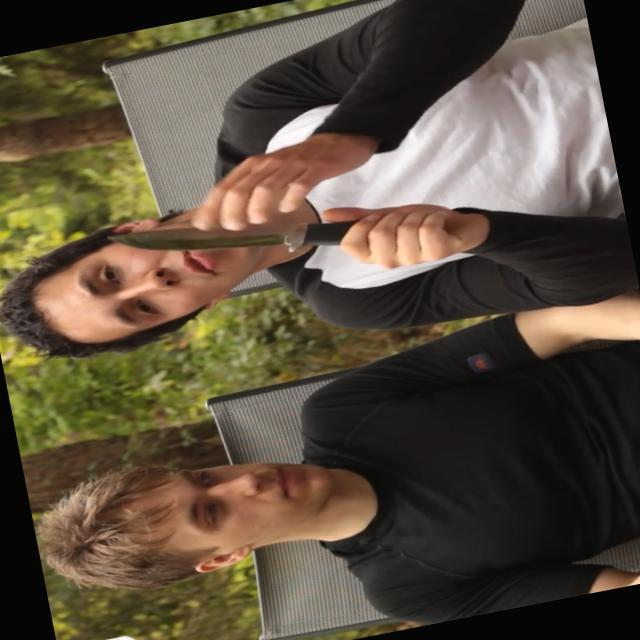knife: (89, 169, 408, 312)
